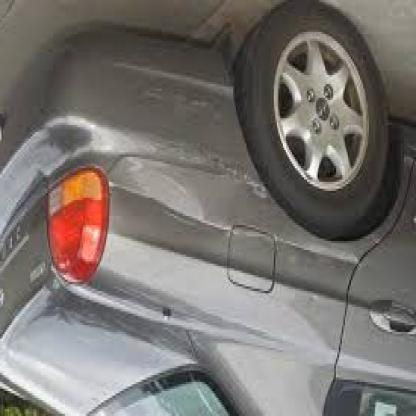dent: (282, 244, 362, 272)
